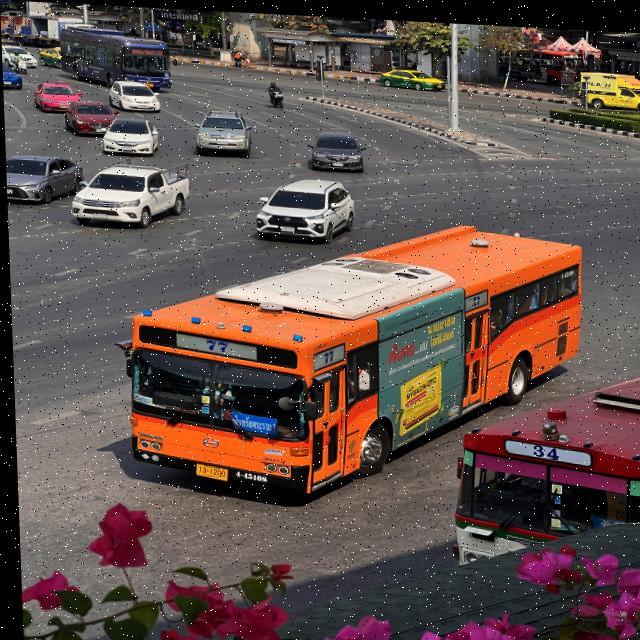BMTA-bus: (114, 206, 591, 506)
Bus-Line-Number: (183, 331, 238, 356), (317, 347, 334, 364)
Destination-Sign-Normal: (224, 410, 276, 436)
